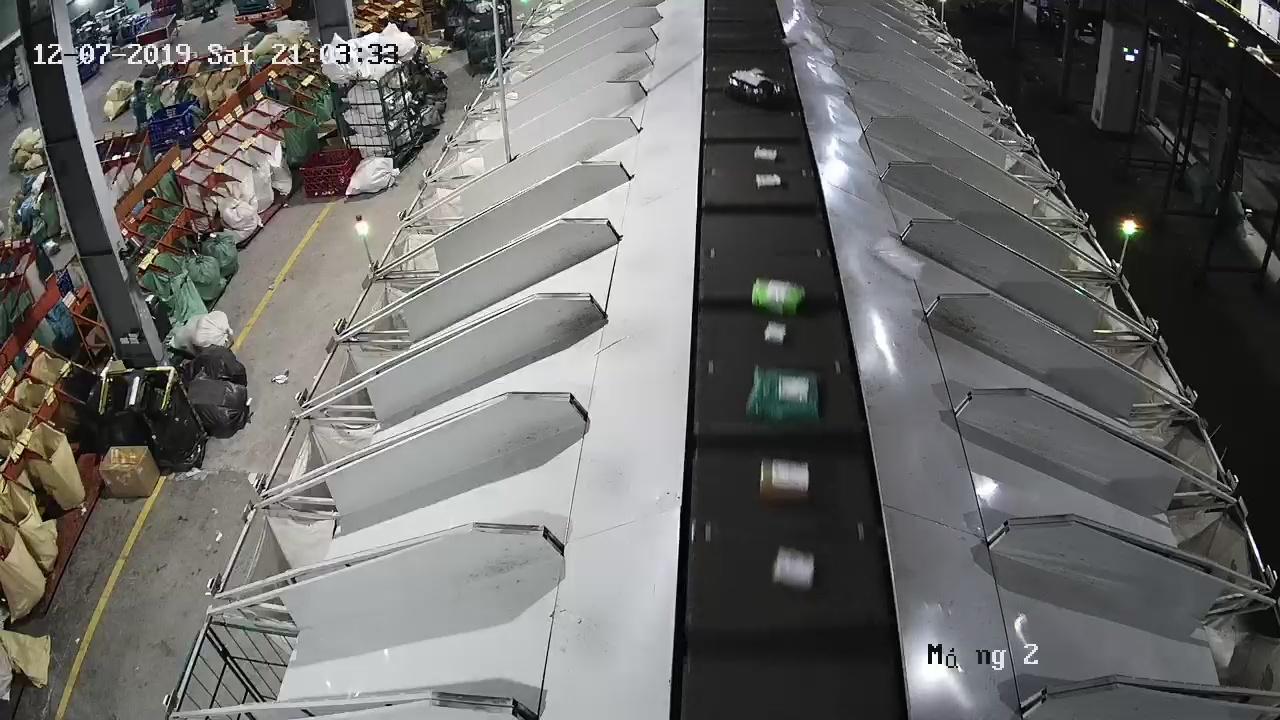parcel: (869, 245, 926, 282)
